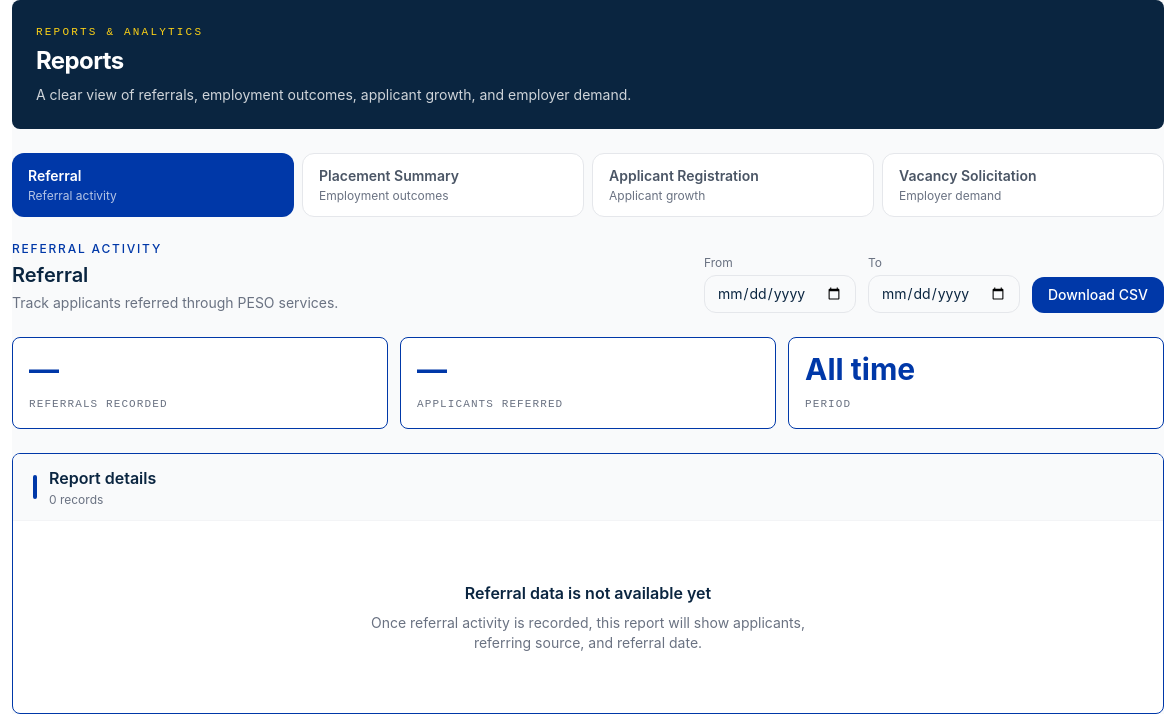
Test: Reports CSV export › counts open vacancies (status=published) and distinct posting companies
The image size is (1176, 720).
Click the text "Vacancy Solicitation" at (968, 175), box [899, 166, 1036, 184]
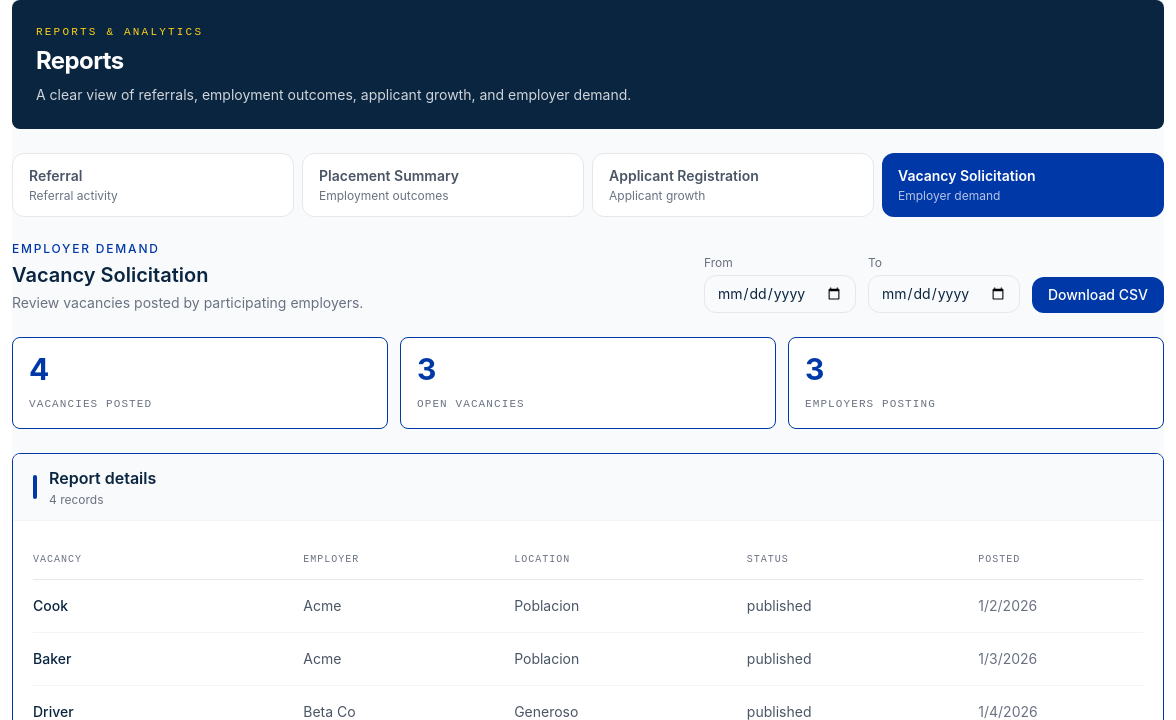
Expected: the 2nd text "3" is shown, [805, 350, 824, 386]
